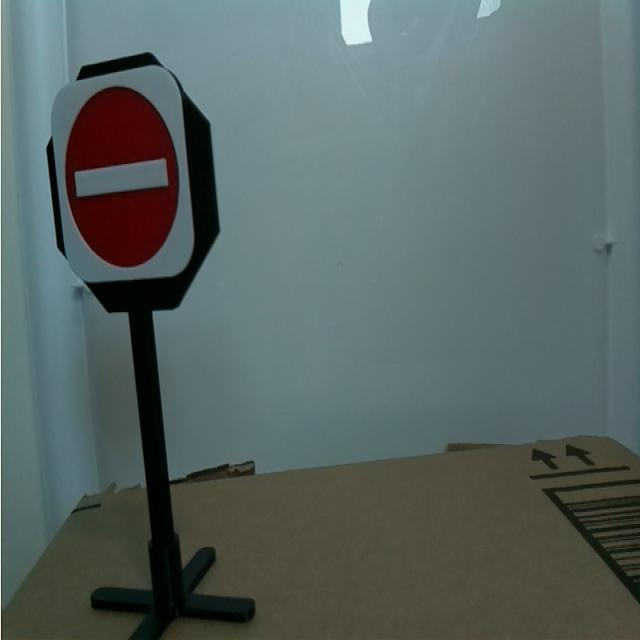sign_noentry: (48, 76, 198, 282)
